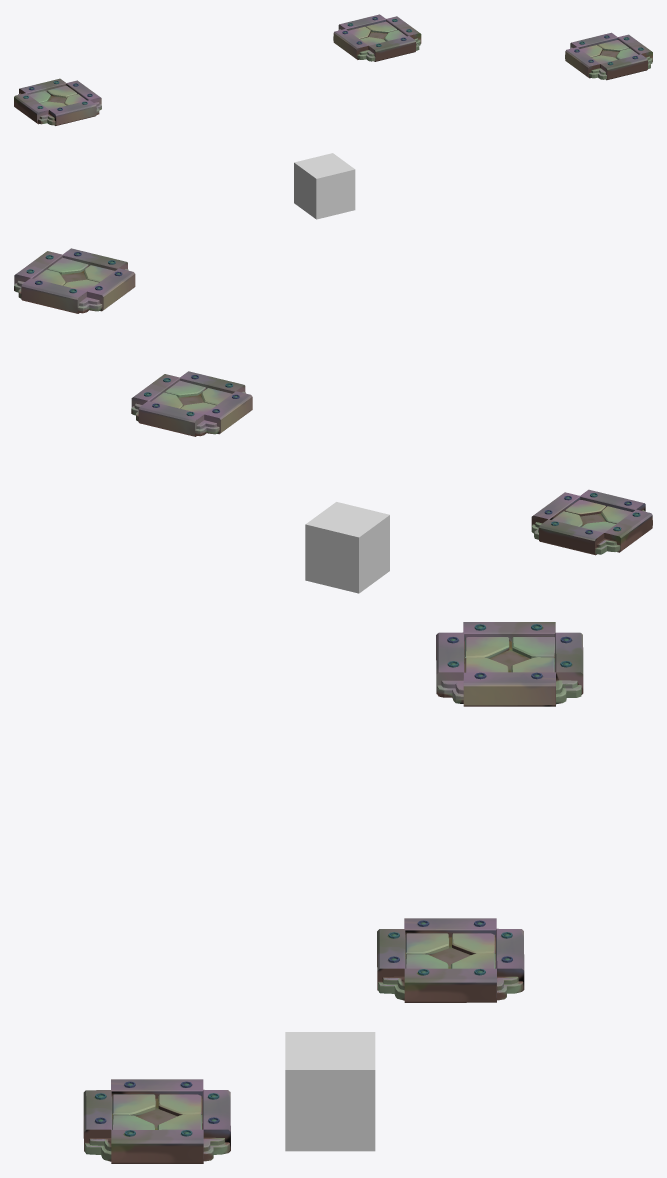
The model's file is battlescence-2-floor006.fbx.
3 renders of one model, top to bottom at view 1: azimuth 30°, elevation 25°; view 2: azimuth 150°, elevation 25°; view 3: azimuth 270°, elevation 25°, orthographic. The views are drawn at different scales.
Visible parts, largest first — view 1: battlescence-2-floor006, Circle.005, Circle.006, Circle.007; view 2: battlescence-2-floor006, Circle.007, Circle.005, Circle.006; view 3: Circle.007, Circle.006, Circle.005, battlescence-2-floor006.
Boxes of the visible parts, x1,y1,x2,y2 form: battlescence-2-floor006: [294, 153, 355, 219]; Circle.005: [333, 14, 421, 61]; Circle.006: [565, 32, 652, 80]; Circle.007: [14, 78, 101, 125]; battlescence-2-floor006: [305, 502, 389, 593]; Circle.007: [531, 489, 652, 555]; Circle.005: [131, 371, 252, 436]; Circle.006: [14, 248, 135, 313]; Circle.007: [436, 622, 583, 706]; Circle.006: [83, 1079, 230, 1163]; Circle.005: [377, 918, 524, 1002]; battlescence-2-floor006: [285, 1032, 375, 1151].
Bounding box in the file's own units: 2715 × 654 × 1113.
